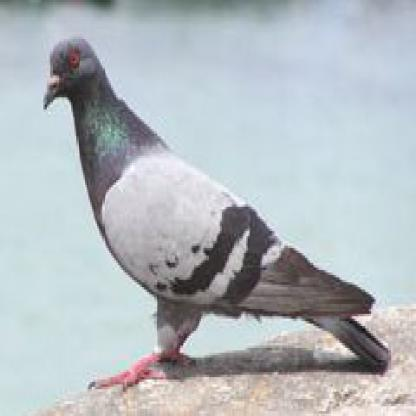Rock Pigeon: (36, 35, 396, 371)
